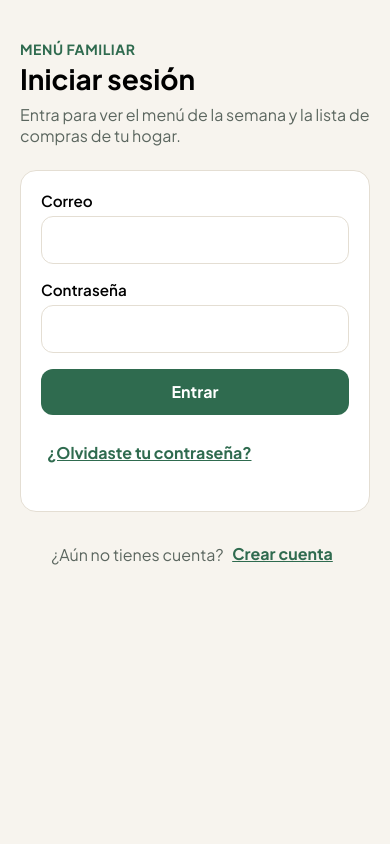
Test: Iniciar sesión (HU-01) › CA-01.3 cuenta bloqueada: explica la espera de 15 minutos y la hora
expect the heading "Iniciar sesión" is shown: met, box [20, 61, 195, 96]
Type "rene@correo.com" into the field labelled "Correo" at [195, 240], box [41, 216, 349, 264]
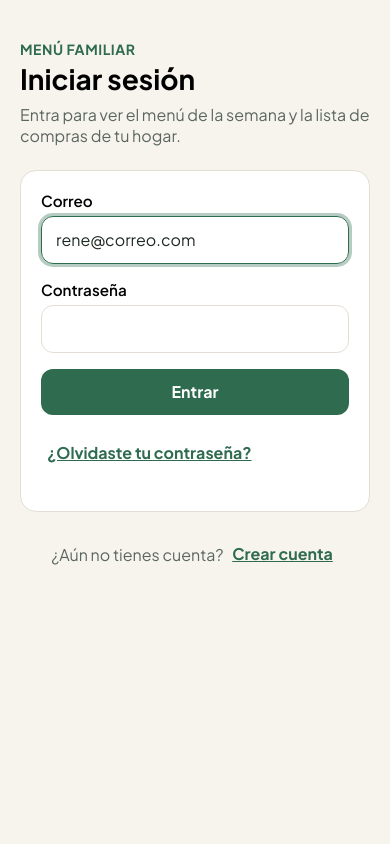
Type "Almuerzo2026" into the password field labelled "Contraseña" at [195, 329], box [41, 305, 349, 353]
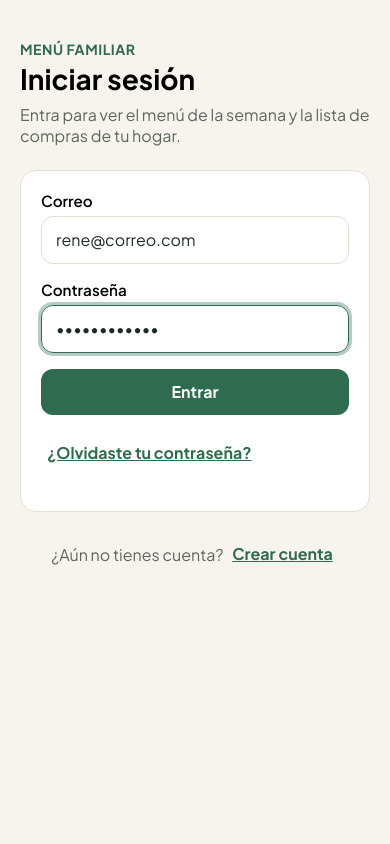
Click the button "Entrar" at [195, 392], box [41, 369, 349, 415]
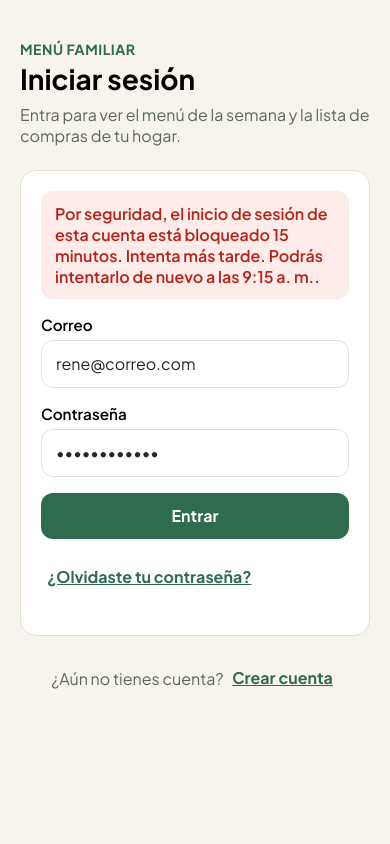
expect the message shows "bloqueado 15 minutos": met, box [55, 203, 328, 287]
expect the message shows "9:15": met, box [55, 203, 328, 287]
